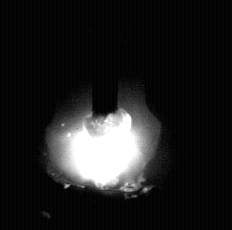arame: (92, 0, 119, 117)
poca: (47, 0, 159, 230)
